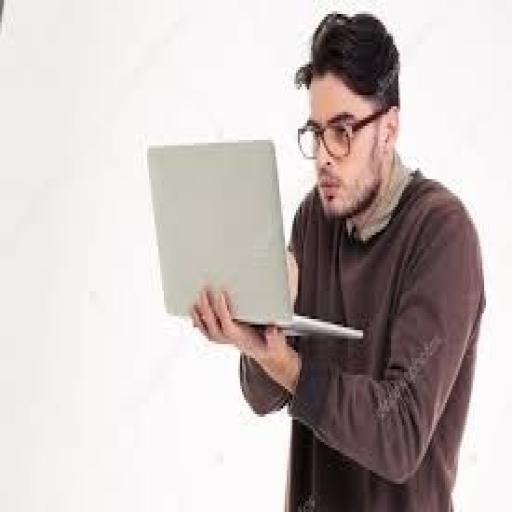using_laptop: (143, 137, 365, 344)
